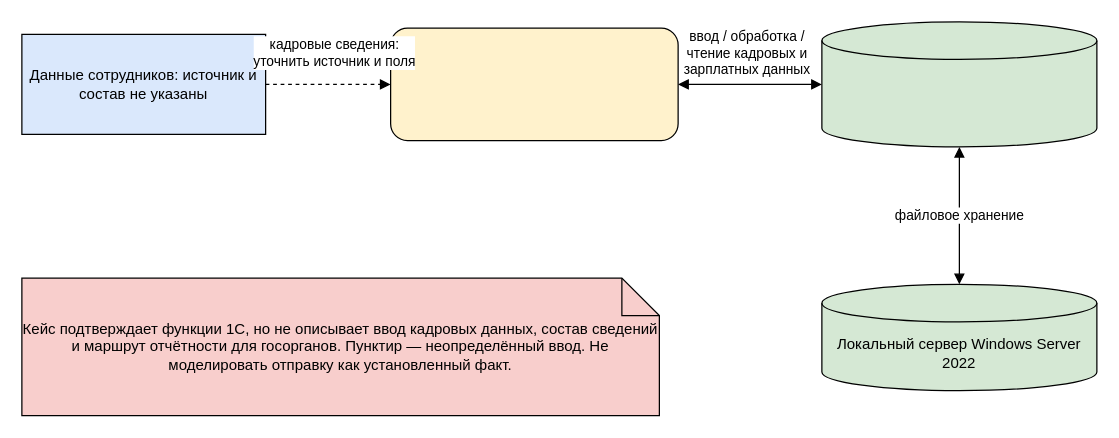
This 1119x438 diagram has some shape labels left out. The box of each missing label's shape, as (x1, y1, x2, y2) in pixels:
1С:Бухгалтерия предприятия, файловый режим: (821, 21, 1097, 147)
Бухгалтерия: кадровый учёт, начисление зарплаты, налоги: (389, 27, 678, 141)
